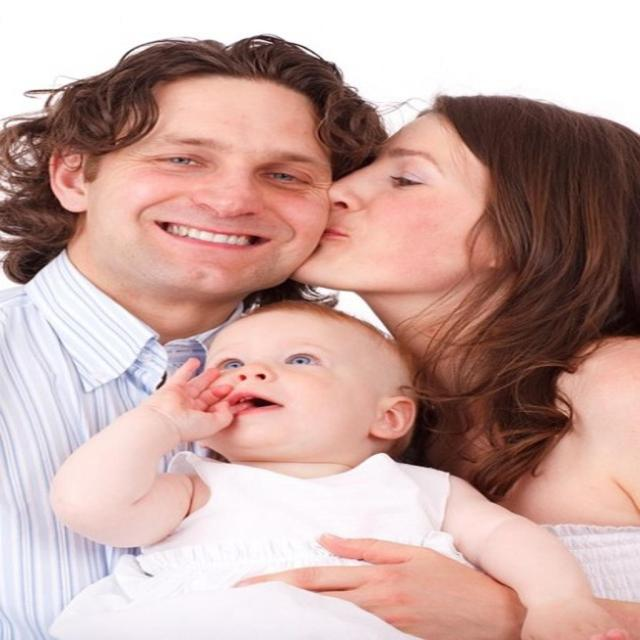Face: (47, 58, 337, 303), (293, 111, 534, 302), (191, 322, 399, 448)
